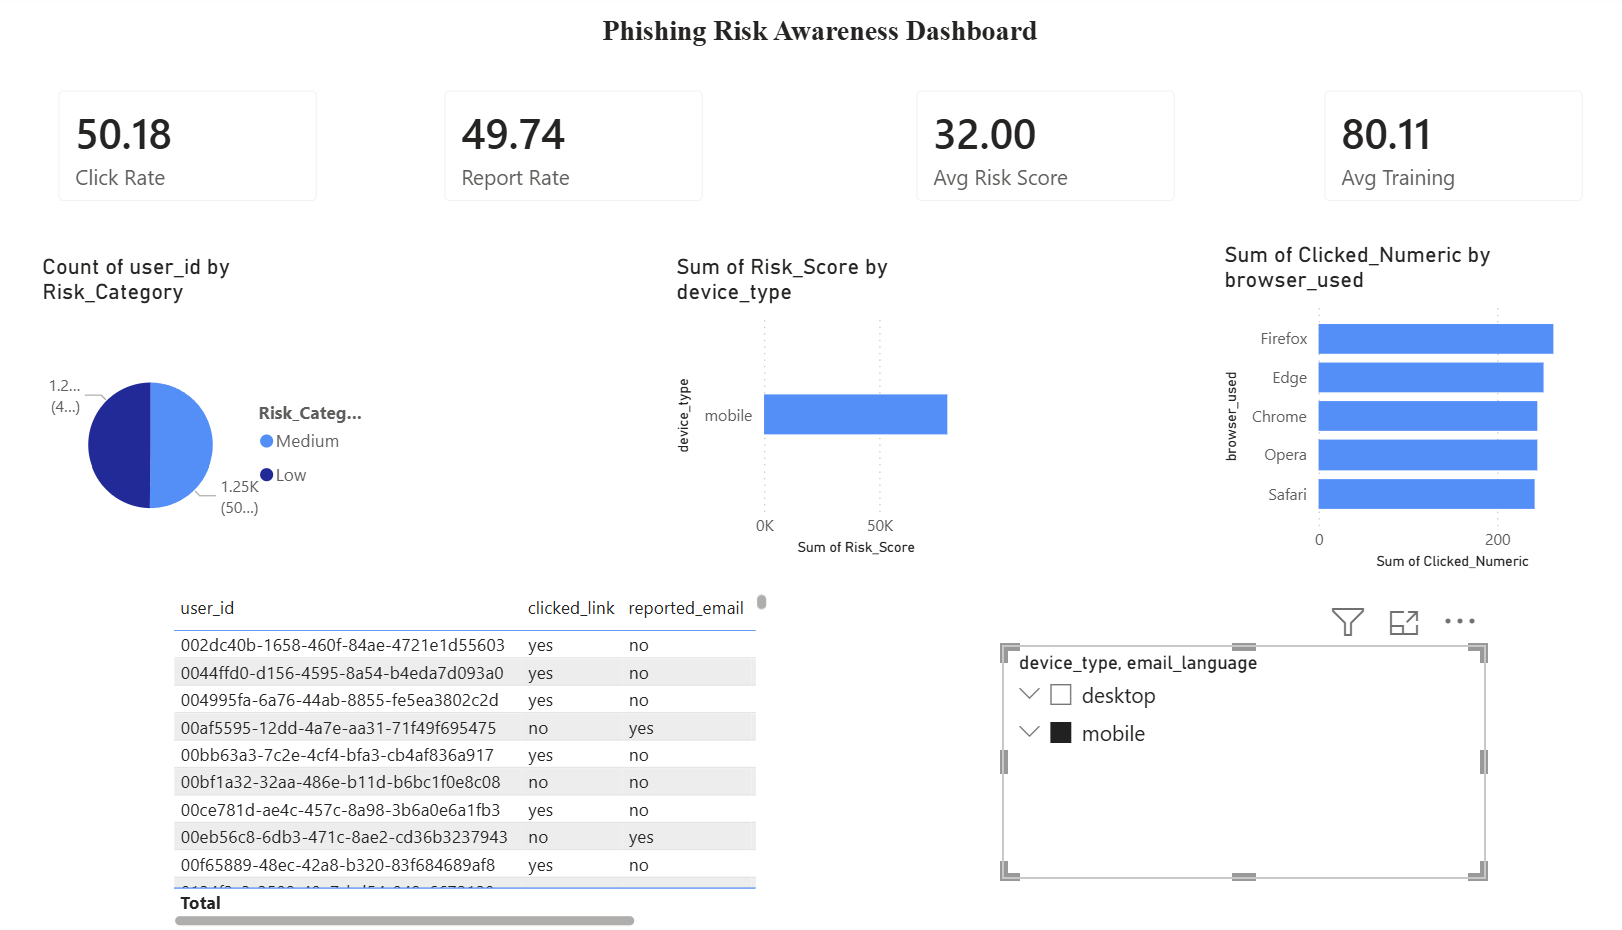

What the dashboard file says about the page in this screenshot:
{"tool":"powerbi","page":{"name":"Page 1","canvas":[1280,720],"ordinal":0},"visuals":[{"type":"pieChart","fields":{"Category":["phishing_awareness_dataset.Risk_Category"],"Y":["CountNonNull(phishing_awareness_dataset.user_id)"]},"box":[39.8,200.6,263.3,254.2],"z":0},{"type":"barChart","fields":{"Category":["phishing_awareness_dataset.device_type"],"Y":["Sum(phishing_awareness_dataset.Risk_Score)"]},"box":[525.2,200.6,228.1,234.3],"z":1000},{"type":"barChart","fields":{"Category":["phishing_awareness_dataset.browser_used"],"Y":["Sum(phishing_awareness_dataset.Clicked_Numeric)"]},"box":[944.7,191.4,297,254.2],"z":2000},{"type":"tableEx","fields":{"Values":["phishing_awareness_dataset.user_id","phishing_awareness_dataset.clicked_link","phishing_awareness_dataset.reported_email","Sum(phishing_awareness_dataset.Risk_Score)"]},"box":[139.3,454.7,465.5,264.9],"z":3000},{"type":"slicer","fields":{"Values":["phishing_awareness_dataset.device_type","phishing_awareness_dataset.email_language"]},"box":[779.3,499.1,370.5,179.1],"z":4000},{"type":"cardVisual","fields":{"Data":["phishing_awareness_dataset.Click Rate"]},"box":[39.8,58.2,232.7,119.4],"z":5000},{"type":"cardVisual","fields":{"Data":["phishing_awareness_dataset.Report Rate"]},"box":[335.3,58.2,232.7,119.4],"z":6000},{"type":"cardVisual","fields":{"Data":["phishing_awareness_dataset.Avg Risk Score"]},"box":[696.7,58.2,232.7,119.4],"z":7000},{"type":"cardVisual","fields":{"Data":["phishing_awareness_dataset.Avg Training"]},"box":[1009,58.2,232.7,119.4],"z":8000},{"type":"textbox","box":[468.5,12.2,343,45.9],"z":9000}]}

Visuals, with their boxes in screenshot pixels (x1, y1, x2, y2), scaled from the page's 1280x720 canvas onto the 1622x930 screenshot:
pieChart - phishing_awareness_dataset.Risk_Category x CountNonNull(phishing_awareness_dataset.user_id): box(50, 259, 384, 587)
barChart - phishing_awareness_dataset.device_type x Sum(phishing_awareness_dataset.Risk_Score): box(666, 259, 955, 562)
barChart - phishing_awareness_dataset.browser_used x Sum(phishing_awareness_dataset.Clicked_Numeric): box(1197, 247, 1573, 576)
tableEx - phishing_awareness_dataset.user_id x phishing_awareness_dataset.clicked_link: box(177, 587, 766, 929)
slicer - phishing_awareness_dataset.device_type x phishing_awareness_dataset.email_language: box(988, 645, 1457, 876)
cardVisual - phishing_awareness_dataset.Click Rate: box(50, 75, 345, 229)
cardVisual - phishing_awareness_dataset.Report Rate: box(425, 75, 720, 229)
cardVisual - phishing_awareness_dataset.Avg Risk Score: box(883, 75, 1178, 229)
cardVisual - phishing_awareness_dataset.Avg Training: box(1279, 75, 1573, 229)
textbox: box(594, 16, 1028, 75)
